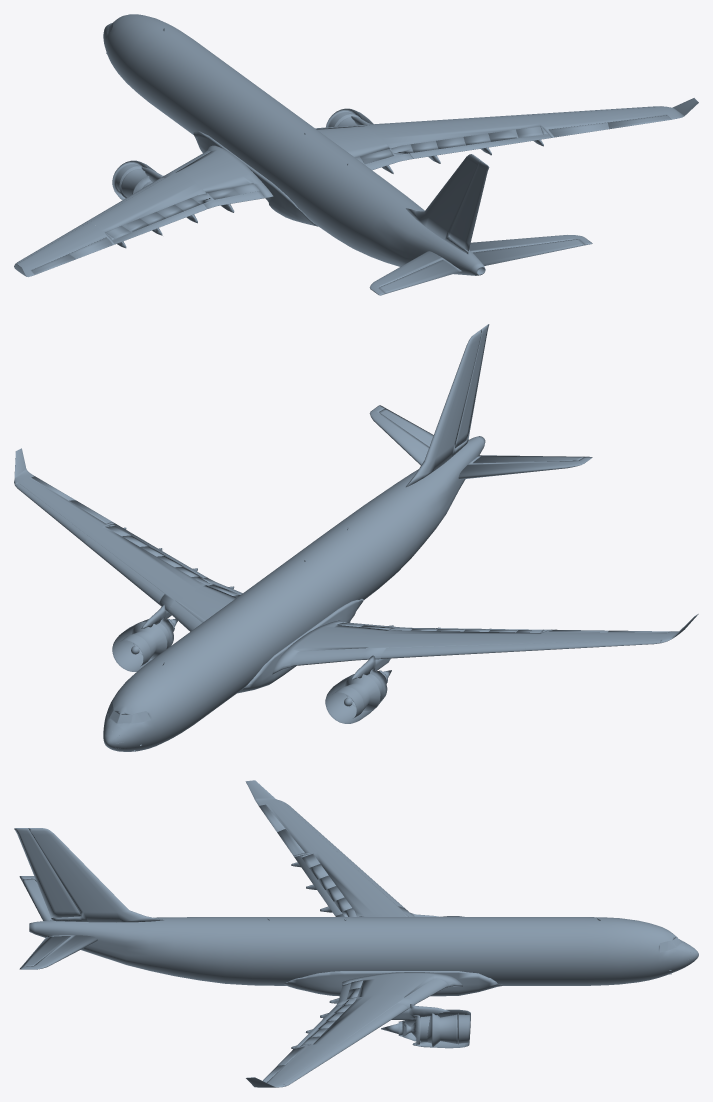
3 renders of one model, top to bottom at view 1: azimuth 30°, elevation 25°; view 2: azimuth 150°, elevation 25°; view 3: azimuth 270°, elevation 25°, orthographic. The views are drawn at different scales.
Size of the model in its own units: 59.91 by 16.13 by 58.36.
